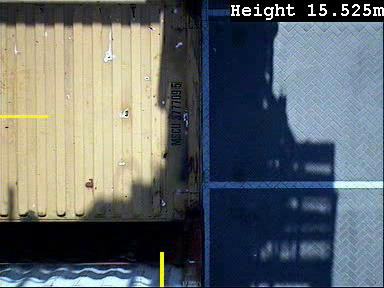groundmarker_2: (179, 50, 240, 92)
